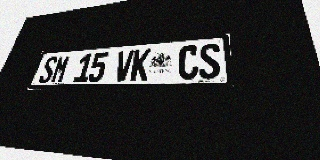1: (73, 53, 94, 82)
5: (87, 52, 109, 82)
C: (178, 45, 198, 80)
K: (130, 49, 151, 81)
M: (50, 55, 71, 83)
S: (199, 43, 221, 79), (37, 56, 59, 83)
V: (113, 50, 134, 81)
